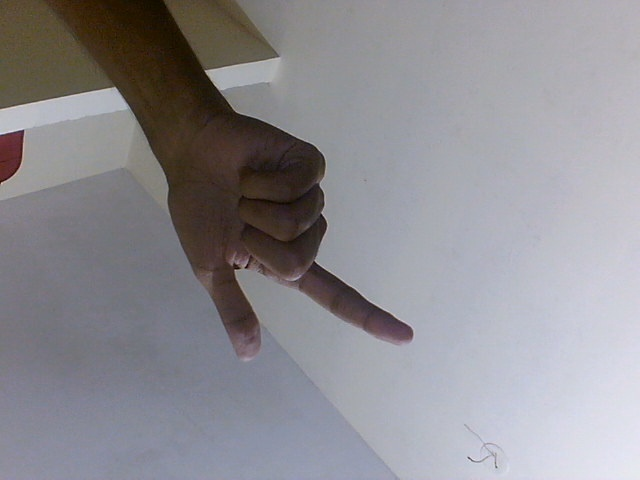hand: (131, 104, 419, 363)
